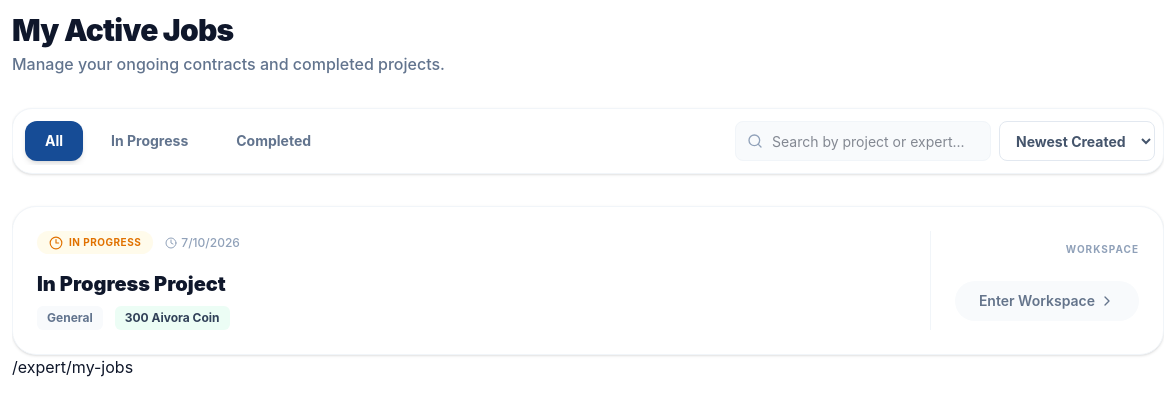
ExpertMyJobsPage title navigation › navigates to the project workspace when clicking an in-progress project title
This screenshot has width=1164, height=394.
Step 1. Click the link "In Progress Project" → (131, 284), box [37,270,226,298]
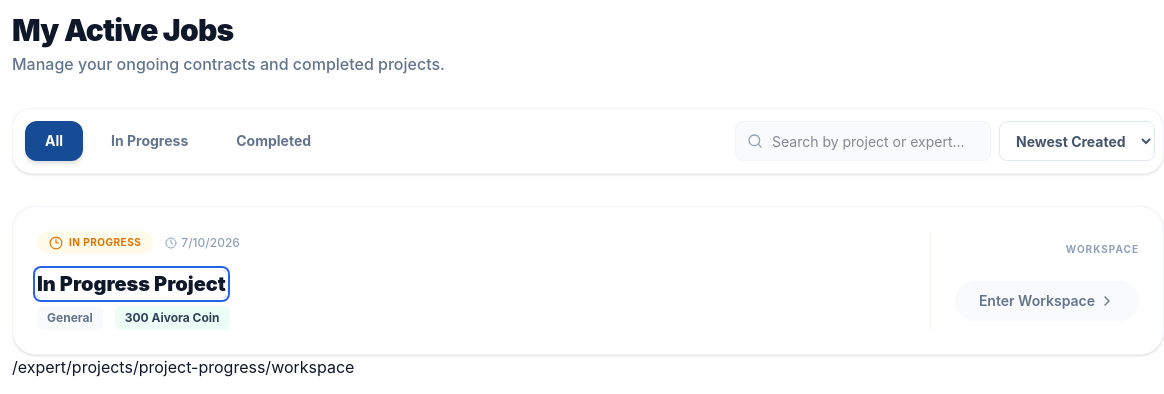
Result: the text named "current path" reads "/expert/projects/project-progress/workspace" at [12,357,354,377]
